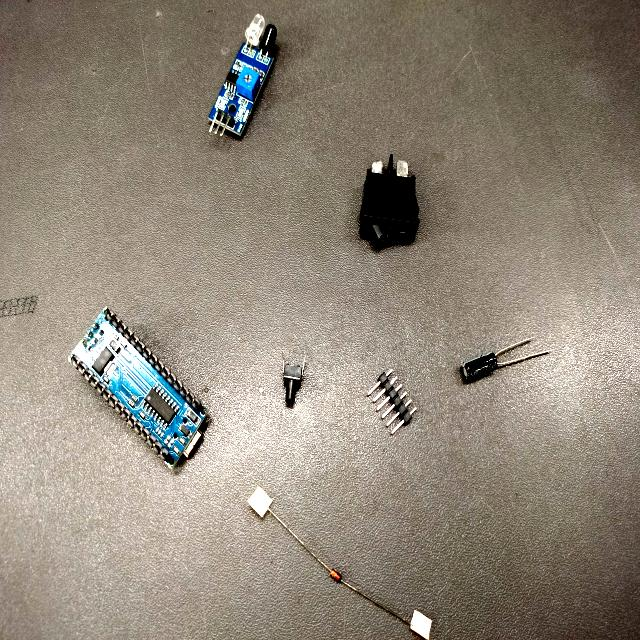capacitor: (459, 344, 525, 385)
